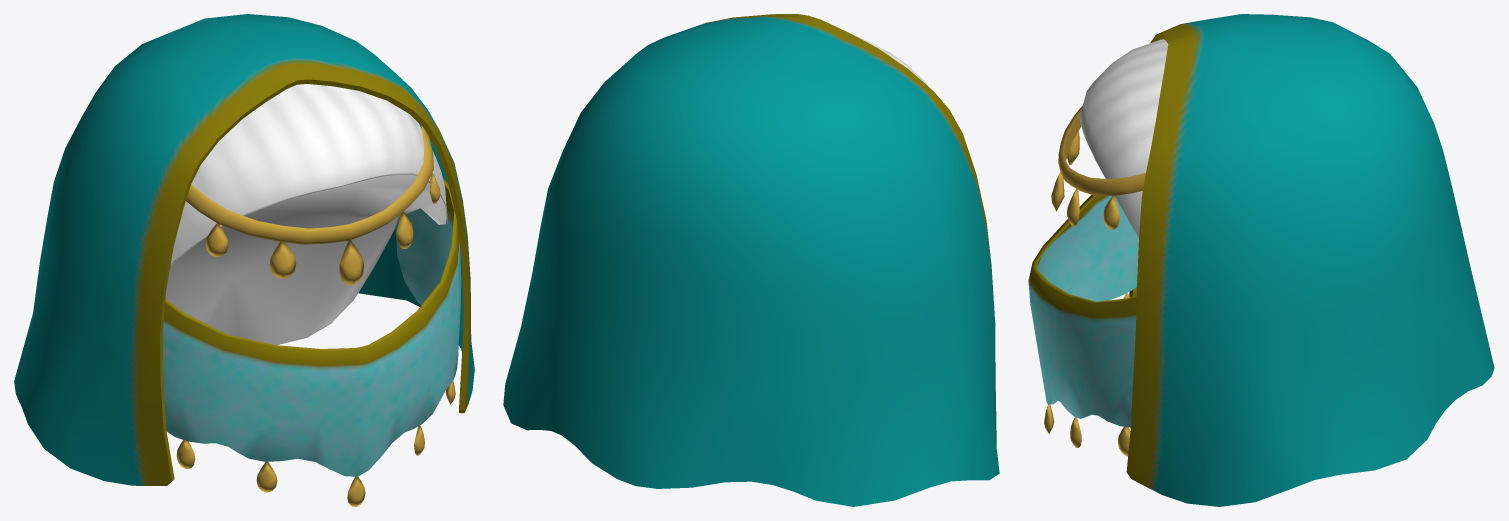
File: CapFullfaceVeil0.glb
The picture shows the model from 3 angles, left to right: view 1: azimuth 30°, elevation 25°; view 2: azimuth 150°, elevation 25°; view 3: azimuth 270°, elevation 25°; orthographic projection. The views are drawn at different scales.
Visible parts, largest first — view 1: Body__mCap, BodyHair__mCapHair; view 2: Body__mCap; view 3: Body__mCap, BodyHair__mCapHair.
Part boxes in pixels (x1,y1,x2,y2): Body__mCap: (14,14,474,506); BodyHair__mCapHair: (165,84,447,345); Body__mCap: (503,14,999,506); Body__mCap: (1028,14,1494,506); BodyHair__mCapHair: (1079,39,1168,237).
Size of the model in its own units: 8.45 by 7.54 by 7.96.
2 materials, 2 textured.
